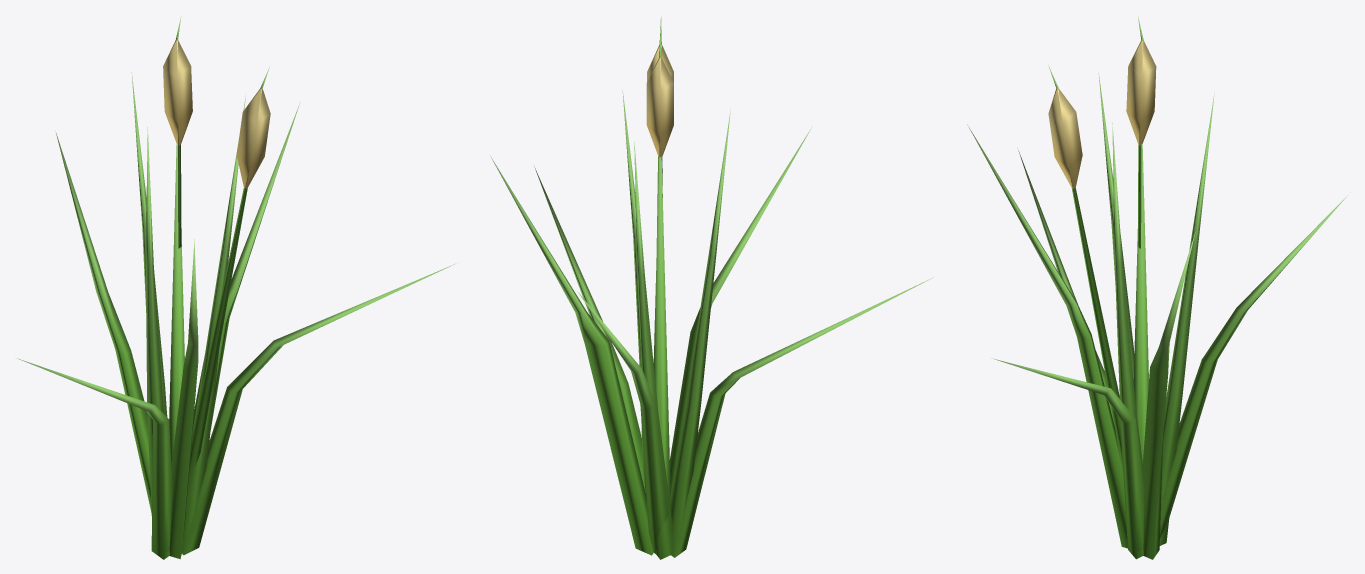
3 renders of one model, left to right at view 1: azimuth 30°, elevation 25°; view 2: azimuth 150°, elevation 25°; view 3: azimuth 270°, elevation 25°, orthographic. The views are drawn at different scales.
Parts seen in each view (by area): view 1: fp18; view 2: fp18; view 3: fp18.
Boxes of the visible parts, x1,y1,x2,y2 form: fp18: (17,16,455,559); fp18: (490,17,933,559); fp18: (967,16,1350,559).
Bounding box in the file's own units: 93.26 × 111 × 71.8.
